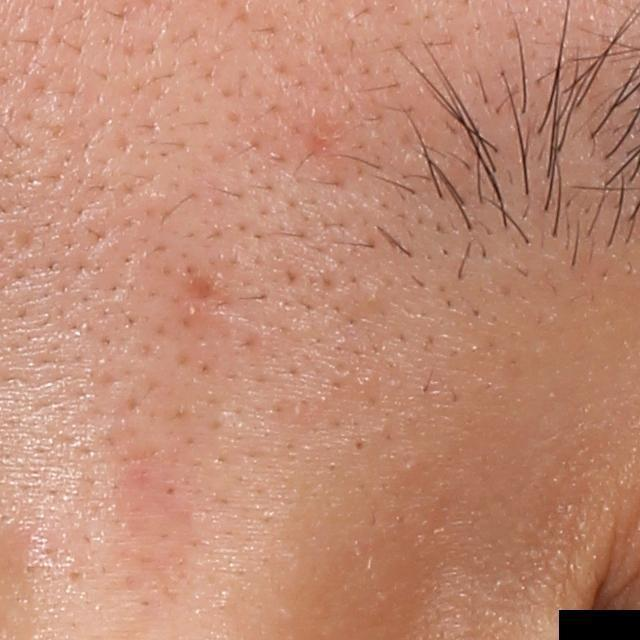comedo: (349, 433, 371, 459)
